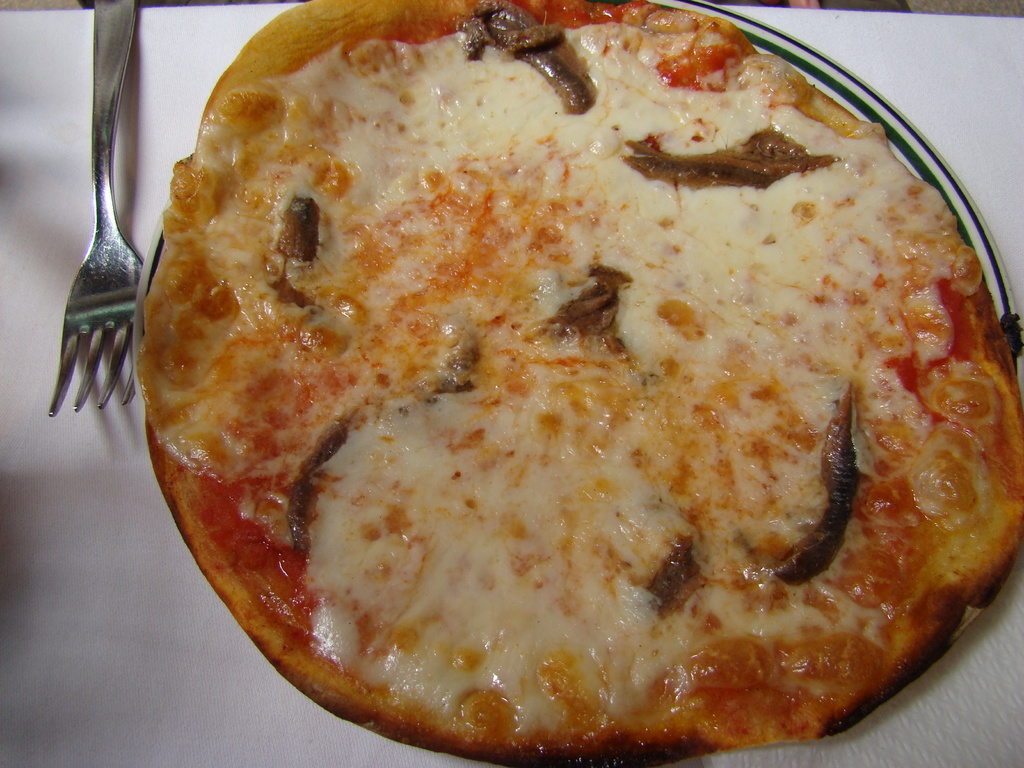Pizza: (112, 0, 1020, 757)
